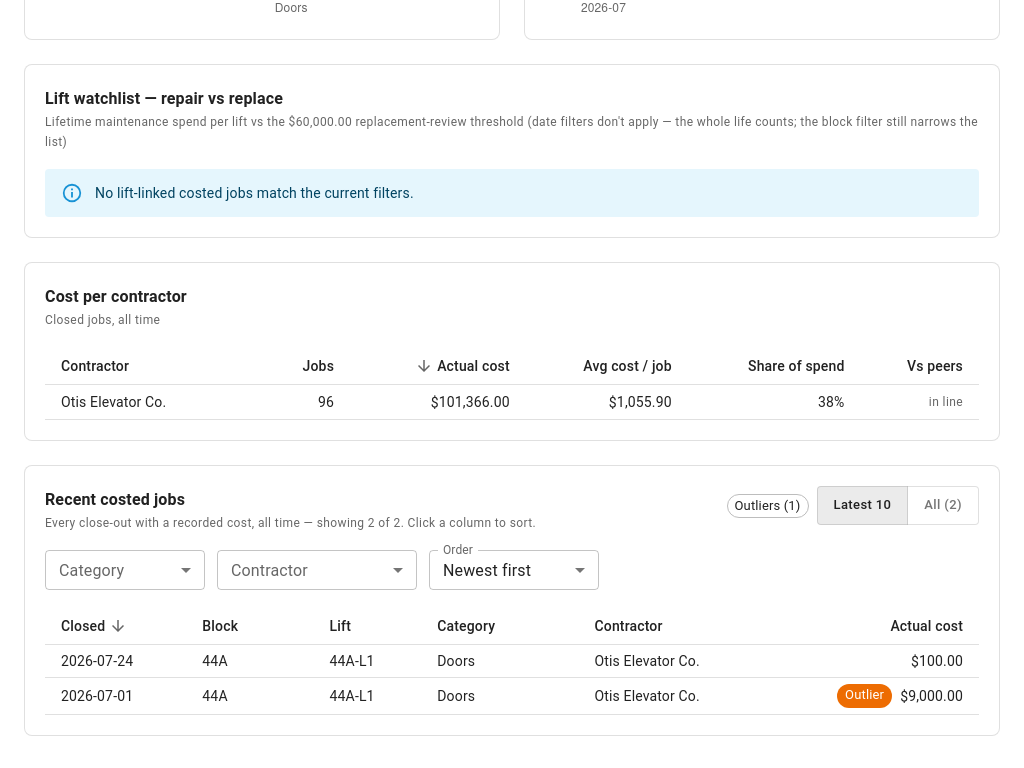
Test: AdminCostPage › the Order control and the column headers drive one shared sort
This screenshot has width=1024, height=768.
(page scrolled)
Step 1. Click the dropdown "Newest first" → (487, 570), box 443,561 -> 531,580
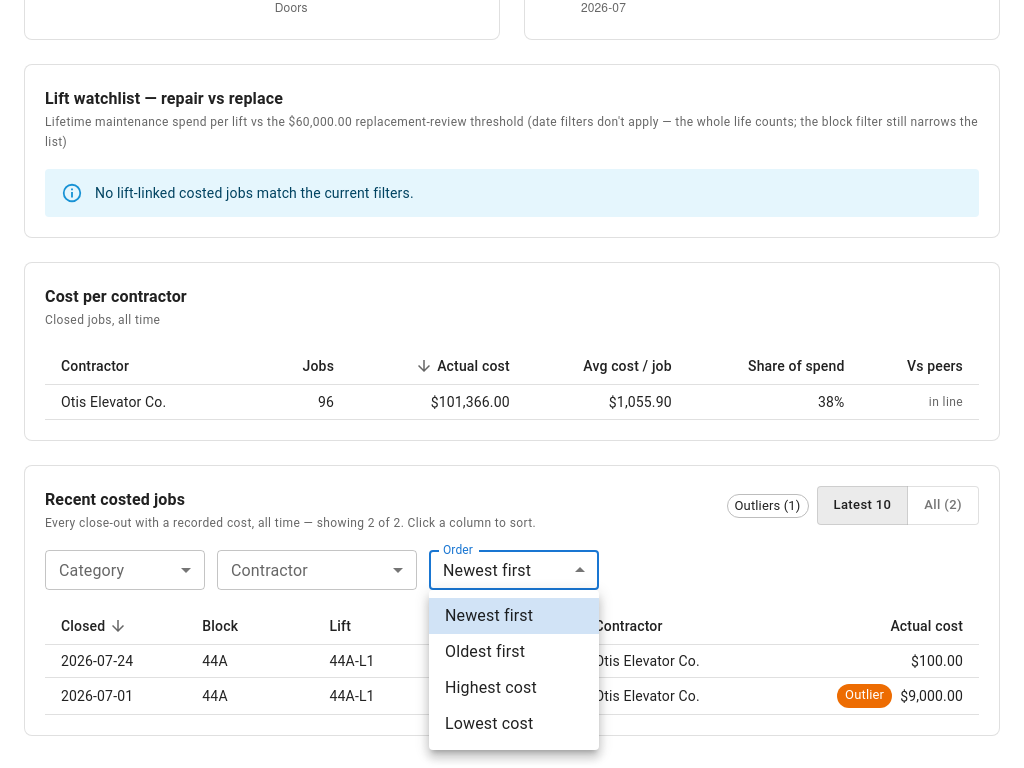
Step 2. Click the option "Highest cost" → (491, 688), box 445,678 -> 537,697
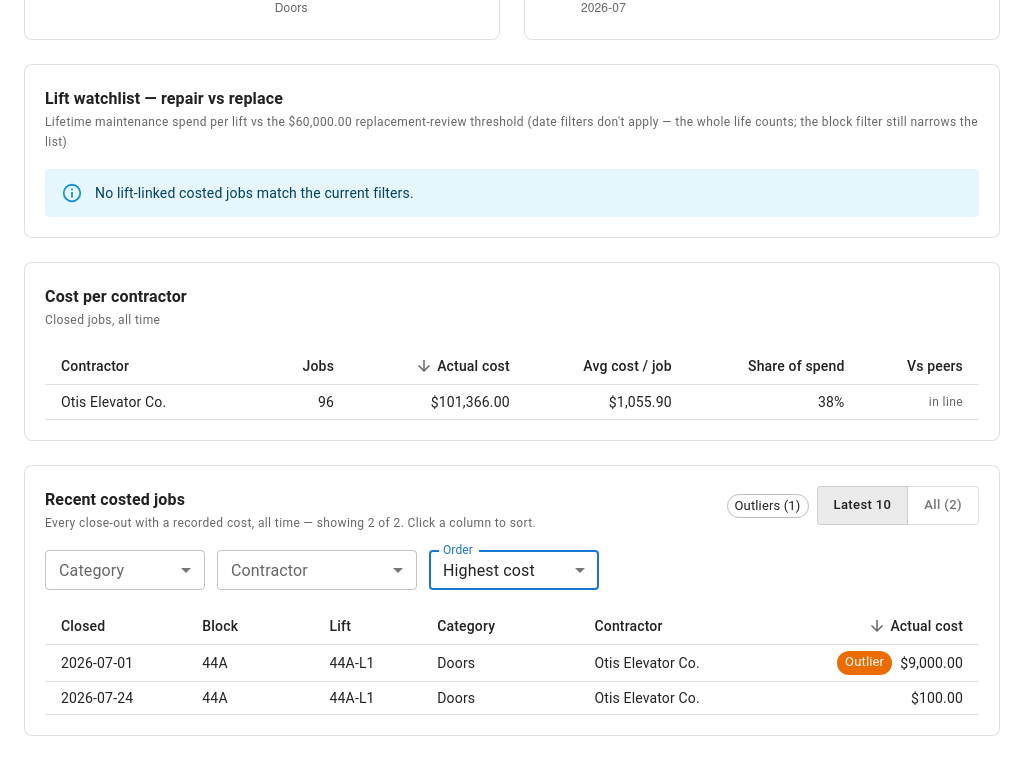
Expected: the text "$9,000.00" is shown, 900,652 -> 963,672
Step 3. Click the button "Category" → (466, 626), box 437,618 -> 495,634
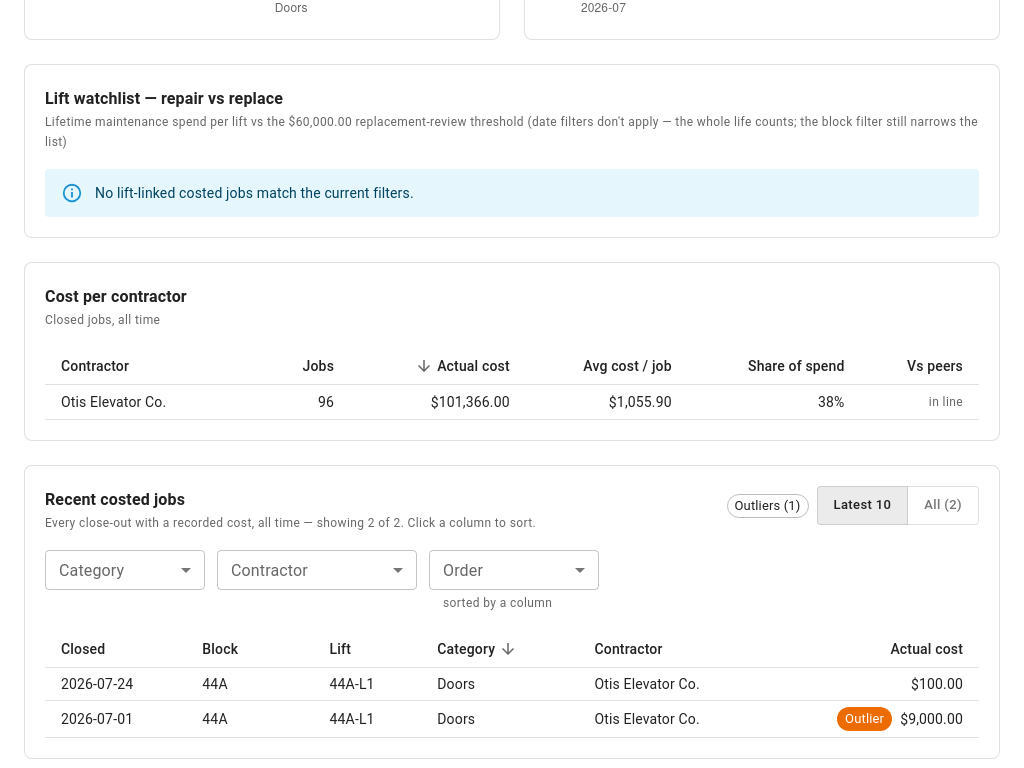
Result: the text "sorted by a column" is shown at 443,596 -> 552,610
